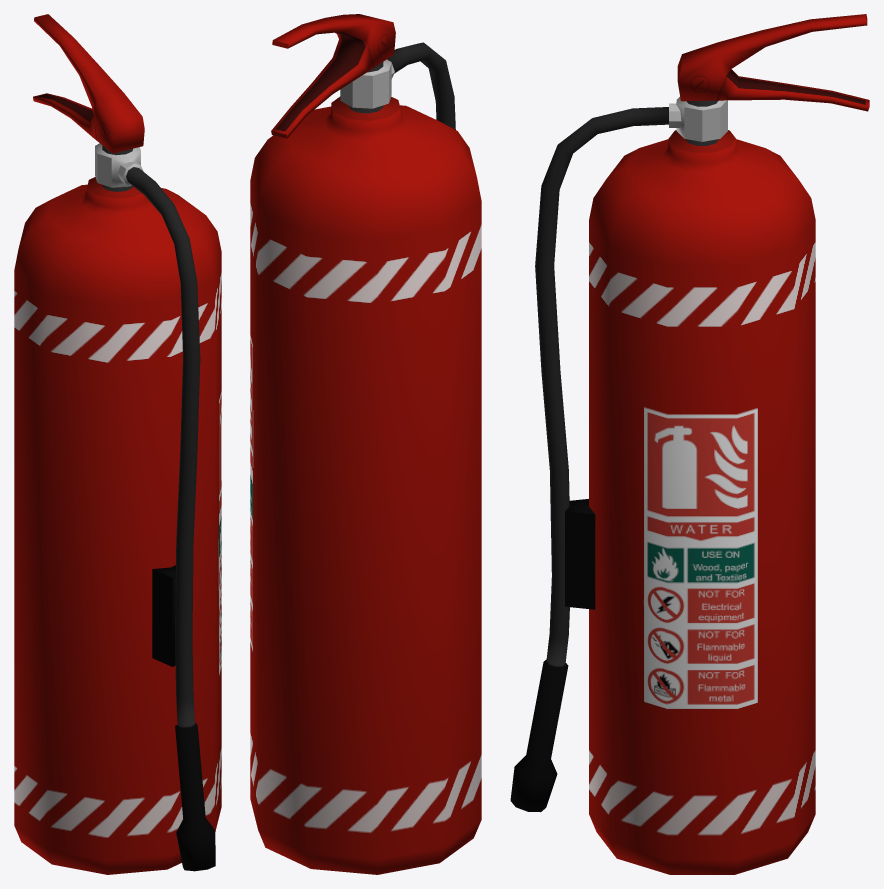
File: extintor.fbx
3 renders of one model, left to right at view 1: azimuth 30°, elevation 25°; view 2: azimuth 150°, elevation 25°; view 3: azimuth 270°, elevation 25°, orthographic. The views are drawn at different scales.
Visible parts, largest first — view 1: Extinguisher; view 2: Extinguisher; view 3: Extinguisher.
Part boxes in pixels (x1=…): Extinguisher: x1=14, y1=14, x2=221, y2=874; Extinguisher: x1=250, y1=14, x2=481, y2=874; Extinguisher: x1=510, y1=14, x2=869, y2=874.
Size of the model in its own units: 125 by 526 by 208.
